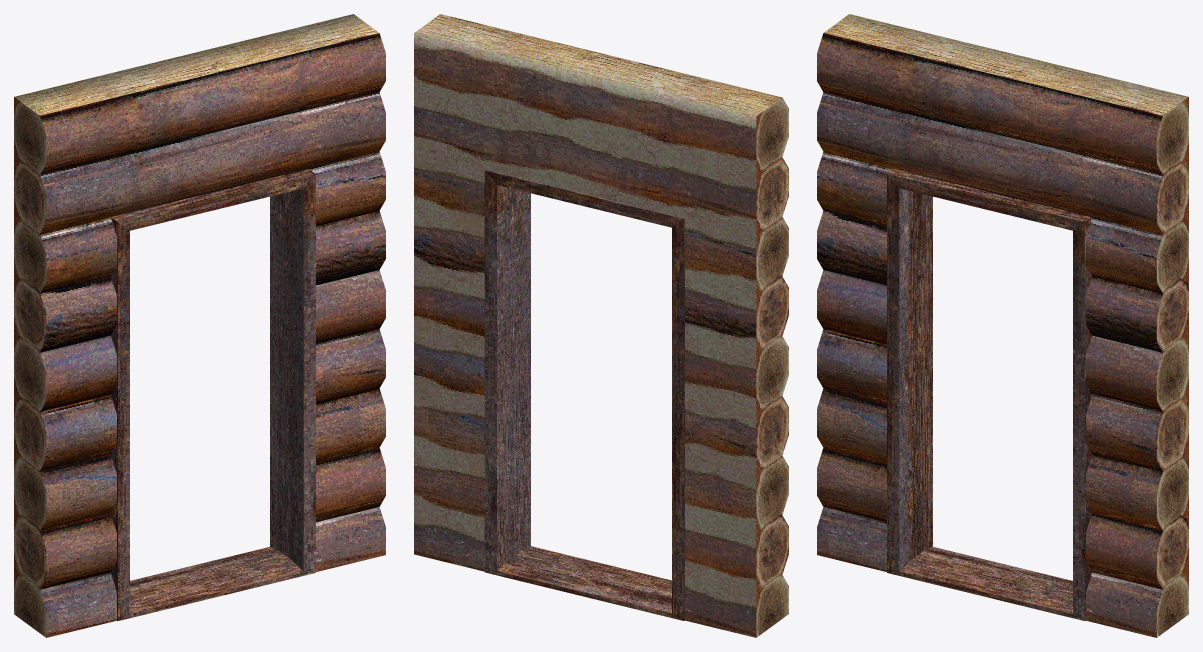
File: wall-A-doorway.glb
3 renders of one model, left to right at view 1: azimuth 30°, elevation 25°; view 2: azimuth 150°, elevation 25°; view 3: azimuth 330°, elevation 25°, orthographic.
Visible parts, largest first — view 1: wall-A-doorway.001; view 2: wall-A-doorway.001; view 3: wall-A-doorway.001.
Boxes of the visible parts, x1,y1,x2,y2 form: wall-A-doorway.001: (14, 14, 385, 637); wall-A-doorway.001: (414, 14, 788, 637); wall-A-doorway.001: (817, 14, 1188, 637).
Size of the model in its own units: 2 by 2.91 by 0.3443.
2 materials, 2 textured.
